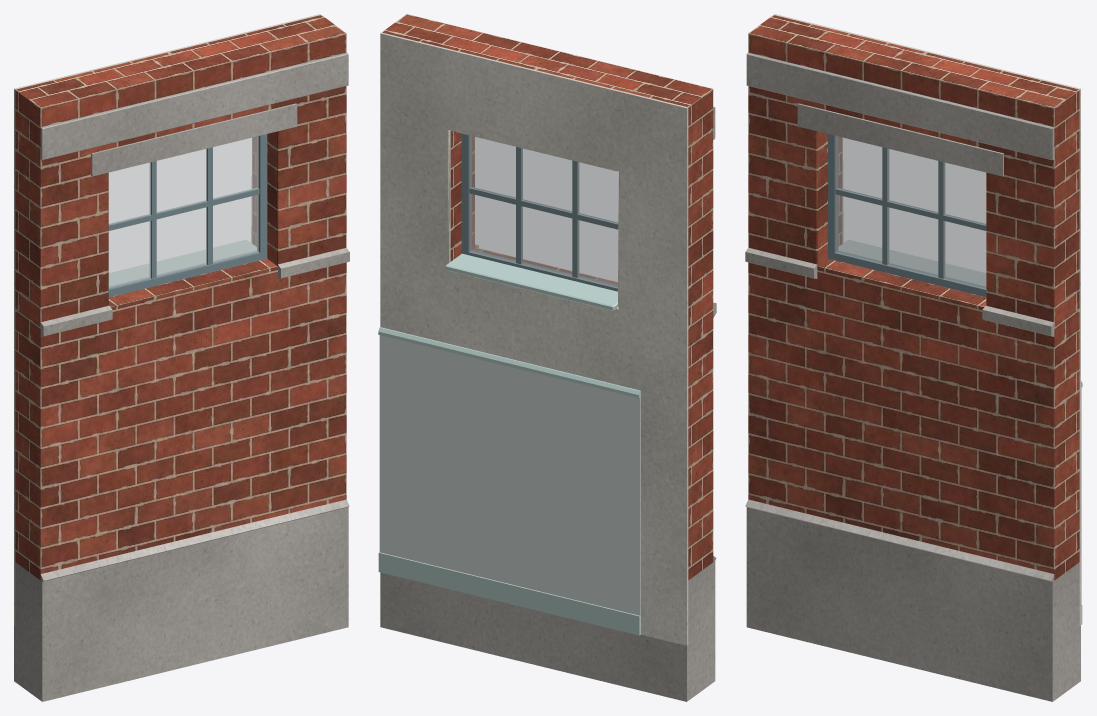
File: w_end_l.glb
3 views of the same model, side by side, from view 1: azimuth 30°, elevation 25°; view 2: azimuth 150°, elevation 25°; view 3: azimuth 330°, elevation 25° (orthographic).
Parts seen in each view (by area): view 1: w_end_l_brick, w_end_l_concrete, w_end_l_glass_f, w_end_l_frame, w_end_l_plaster, w_end_l_tile_c; view 2: w_end_l_plaster, w_end_l_tile_w, w_end_l_brick, w_end_l_concrete, w_end_l_glass_f, w_end_l_tile_c, w_end_l_frame; view 3: w_end_l_brick, w_end_l_concrete, w_end_l_glass_f, w_end_l_frame, w_end_l_tile_c, w_end_l_plaster.
Boxes of the visible parts, x1=… form: w_end_l_brick: x1=15, y1=15, x2=346, y2=580; w_end_l_concrete: x1=14, y1=52, x2=349, y2=701; w_end_l_glass_f: x1=108, y1=136, x2=258, y2=288; w_end_l_frame: x1=108, y1=134, x2=267, y2=297; w_end_l_plaster: x1=14, y1=14, x2=320, y2=625; w_end_l_tile_c: x1=109, y1=240, x2=256, y2=286; w_end_l_plaster: x1=380, y1=32, x2=688, y2=645; w_end_l_tile_w: x1=379, y1=335, x2=640, y2=634; w_end_l_brick: x1=382, y1=14, x2=713, y2=580; w_end_l_concrete: x1=380, y1=106, x2=716, y2=701; w_end_l_glass_f: x1=470, y1=135, x2=618, y2=286; w_end_l_tile_c: x1=378, y1=253, x2=640, y2=635; w_end_l_frame: x1=461, y1=133, x2=618, y2=291; w_end_l_brick: x1=748, y1=15, x2=1079, y2=580; w_end_l_concrete: x1=745, y1=52, x2=1080, y2=701; w_end_l_glass_f: x1=836, y1=136, x2=986, y2=288; w_end_l_frame: x1=828, y1=134, x2=986, y2=296; w_end_l_tile_c: x1=838, y1=240, x2=1082, y2=624; w_end_l_plaster: x1=774, y1=14, x2=1080, y2=625.
Size of the model in its own units: 2 by 3.7 by 0.385.
Materials: 7 (3 with a texture image).
